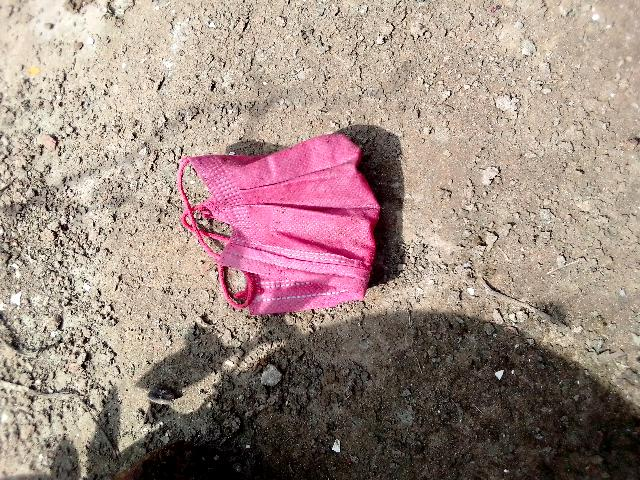mask: (180, 136, 385, 314)
